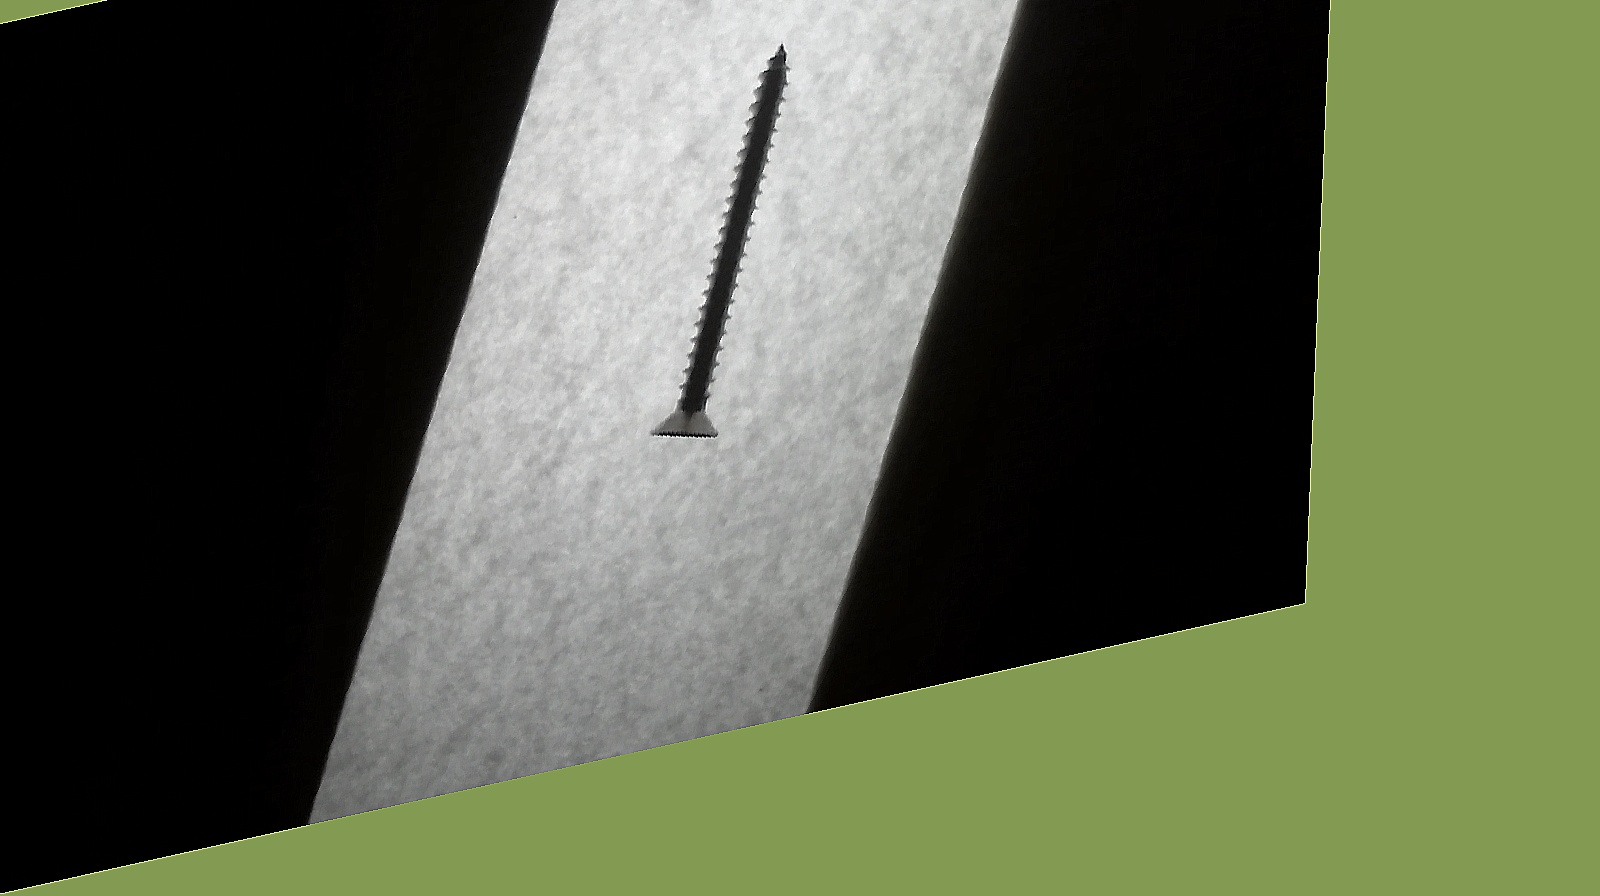S002: (638, 29, 821, 461)
